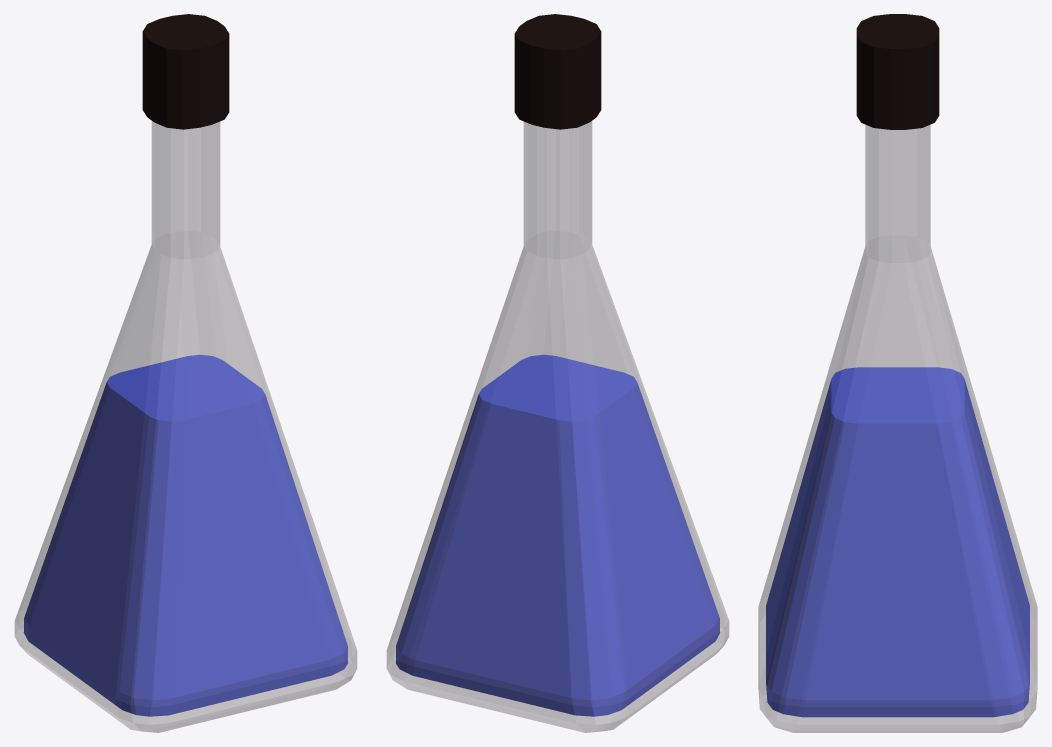
Rendered from medicine1.fbx.
3 views of the same model, side by side, from view 1: azimuth 30°, elevation 25°; view 2: azimuth 150°, elevation 25°; view 3: azimuth 270°, elevation 25° (orthographic). The views are drawn at different scales.
Visible parts, largest first — view 1: medicine1; view 2: medicine1; view 3: medicine1.
Part boxes in pixels (x1,y1,x2,y2): medicine1: [14, 14, 357, 732]; medicine1: [386, 14, 729, 732]; medicine1: [758, 14, 1037, 732].
Size of the model in its own units: 0.3364 by 0.3364 by 0.8686.
